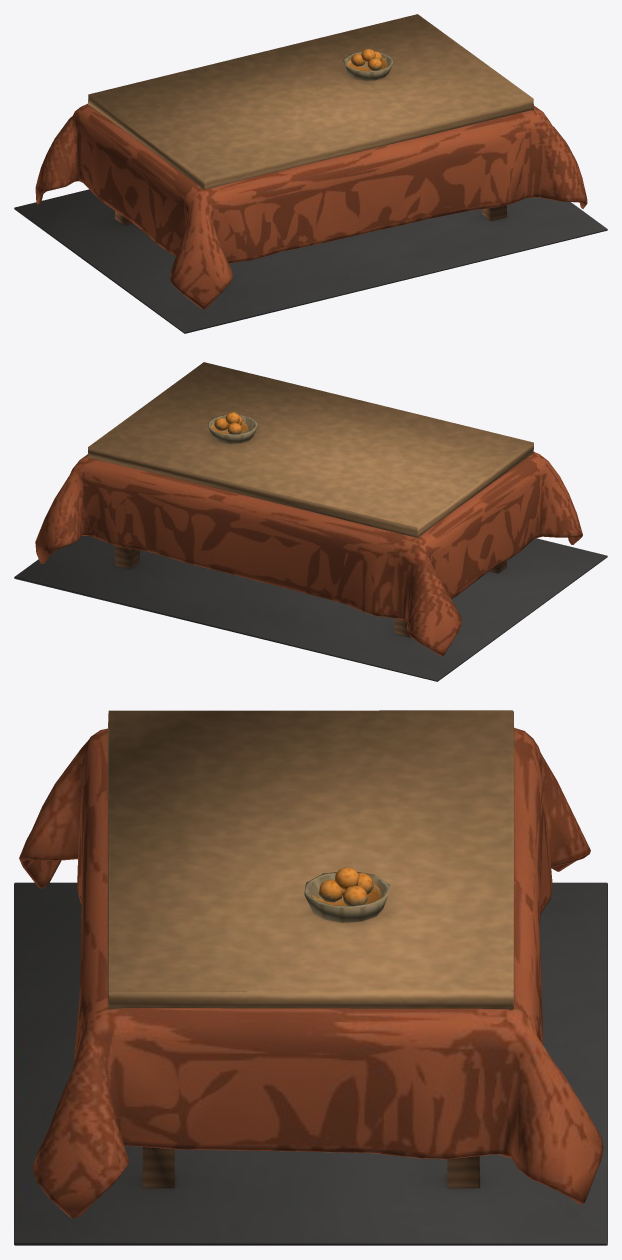
File: kotatsu_lodge_rust.glb
3 renders of one model, top to bottom at view 1: azimuth 30°, elevation 25°; view 2: azimuth 150°, elevation 25°; view 3: azimuth 270°, elevation 25°, orthographic. The views are drawn at different scales.
Visible parts, largest first — view 1: prop_kotatsu_lodge_rust_felt, prop_kotatsu_lodge_rust_wood; view 2: prop_kotatsu_lodge_rust_felt, prop_kotatsu_lodge_rust_wood; view 3: prop_kotatsu_lodge_rust_felt, prop_kotatsu_lodge_rust_wood.
Boxes of the visible parts, x1,y1,x2,y2 form: prop_kotatsu_lodge_rust_felt: (14, 49, 607, 333); prop_kotatsu_lodge_rust_wood: (88, 14, 533, 225); prop_kotatsu_lodge_rust_felt: (14, 412, 607, 681); prop_kotatsu_lodge_rust_wood: (88, 362, 533, 637); prop_kotatsu_lodge_rust_felt: (14, 727, 607, 1245); prop_kotatsu_lodge_rust_wood: (108, 710, 513, 1188).
Bounding box in the file's own units: 3 × 0.9901 × 2.09.
3 materials, 3 textured.
